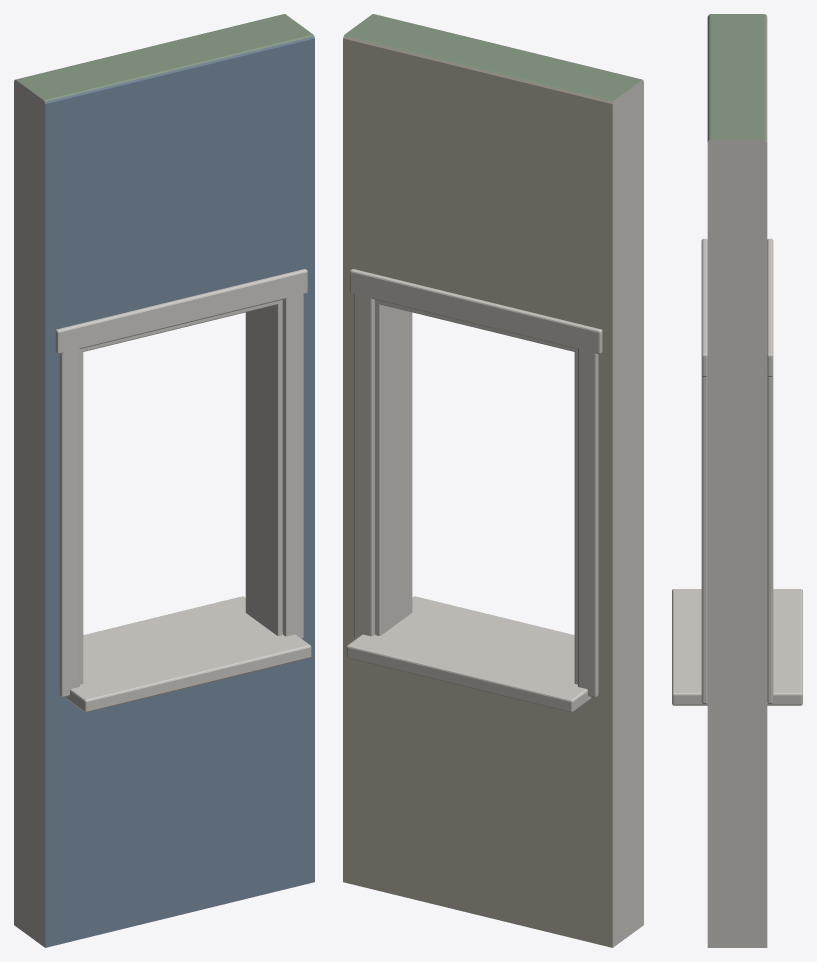
File: SM_Kit_Wall_PassThrough.glb
3 views of the same model, side by side, from view 1: azimuth 30°, elevation 25°; view 2: azimuth 150°, elevation 25°; view 3: azimuth 270°, elevation 25° (orthographic). The views are drawn at different scales.
Parts seen in each view (by area): view 1: SM_Kit_Wall_PassThrough; view 2: SM_Kit_Wall_PassThrough; view 3: SM_Kit_Wall_PassThrough.
Boxes of the visible parts, <box> form: SM_Kit_Wall_PassThrough: <box>14,14,314,947</box>; SM_Kit_Wall_PassThrough: <box>343,14,643,947</box>; SM_Kit_Wall_PassThrough: <box>672,14,802,947</box>.
Bounding box in the file's own units: 1 × 3 × 0.44.
